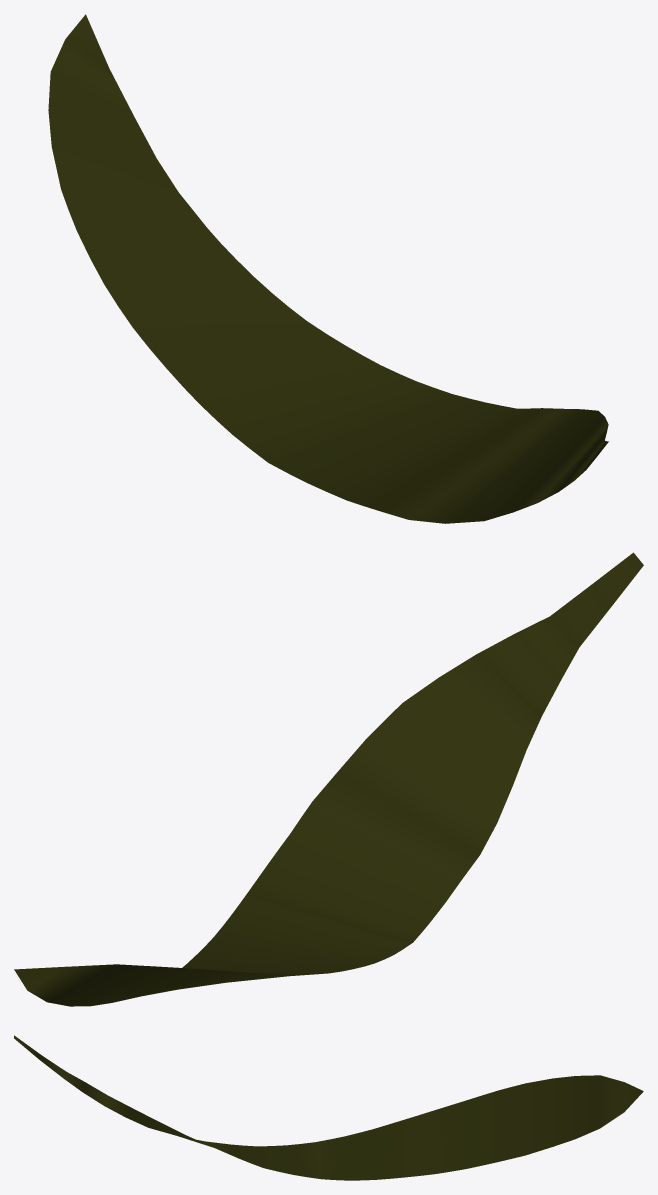
File: SM_ocean_Kelp_leaf_03.fbx
3 renders of one model, top to bottom at view 1: azimuth 30°, elevation 25°; view 2: azimuth 150°, elevation 25°; view 3: azimuth 270°, elevation 25°, orthographic. The views are drawn at different scales.
Parts seen in each view (by area): view 1: SM_ocean_Kelp_leaf_03_LOD0; view 2: SM_ocean_Kelp_leaf_03_LOD0; view 3: SM_ocean_Kelp_leaf_03_LOD0.
Part boxes in pixels (x1=…): SM_ocean_Kelp_leaf_03_LOD0: x1=48, y1=14, x2=608, y2=523; SM_ocean_Kelp_leaf_03_LOD0: x1=14, y1=552, x2=643, y2=1006; SM_ocean_Kelp_leaf_03_LOD0: x1=14, y1=1035, x2=643, y2=1180.
Size of what is drawn, in the model's own units: 18.04 by 91.32 by 18.76.
